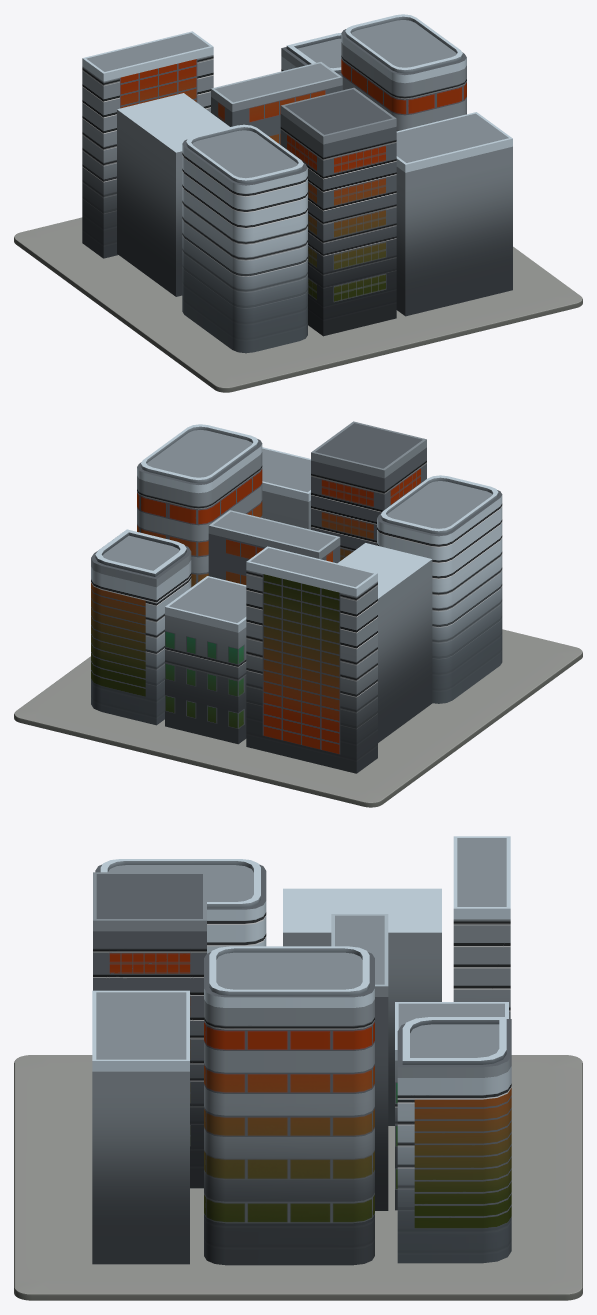
File: Block_NE.glb
3 renders of one model, top to bottom at view 1: azimuth 30°, elevation 25°; view 2: azimuth 150°, elevation 25°; view 3: azimuth 270°, elevation 25°, orthographic. The views are drawn at different scales.
Parts seen in each view (by area): view 1: Sidewalk1, Building05, Building07, Building08, Building01, Building09, Building06, Building10, Building02, Building11, Building03; view 2: Building01, Sidewalk1, Building03, Building06, Building04, Building08, Building05, Building09, Building10, Building07, Building02, Building11; view 3: Sidewalk1, Building06, Building03, Building07, Building05, Building09, Building01, Building10, Building11, Building02, Building04, Building08.
Part boxes in pixels (x1,y1,x2,y2): Sidewalk1: (14, 217, 582, 392); Building05: (280, 87, 396, 336); Building07: (396, 112, 512, 316); Building08: (182, 152, 307, 353); Building01: (82, 31, 213, 258); Building09: (117, 93, 229, 296); Building06: (341, 14, 466, 131); Building10: (182, 124, 307, 193); Building02: (211, 62, 342, 111); Building11: (211, 85, 342, 144); Building03: (281, 32, 341, 75); Building01: (246, 546, 377, 773); Sidewalk1: (14, 629, 582, 807); Building03: (91, 529, 191, 725); Building06: (137, 424, 262, 587); Building04: (165, 576, 246, 744); Building08: (377, 503, 502, 703); Building05: (311, 421, 426, 560); Building09: (337, 543, 432, 742); Building10: (377, 475, 502, 544); Building07: (262, 447, 310, 529); Building02: (208, 510, 340, 559); Building11: (208, 533, 340, 584); Sidewalk1: (14, 1055, 582, 1300); Building06: (204, 946, 374, 1265); Building03: (397, 1017, 511, 1263); Building07: (92, 990, 189, 1264); Building05: (93, 872, 206, 1188); Building09: (283, 888, 441, 1125); Building01: (453, 836, 510, 1018); Building10: (95, 859, 266, 920); Building11: (375, 997, 388, 1210); Building02: (331, 914, 388, 996); Building04: (395, 1002, 508, 1210); Building08: (207, 912, 266, 953).
Size of the model in its own units: 39.88 by 21.74 by 39.96.
Materials: 1 (1 with a texture image).
